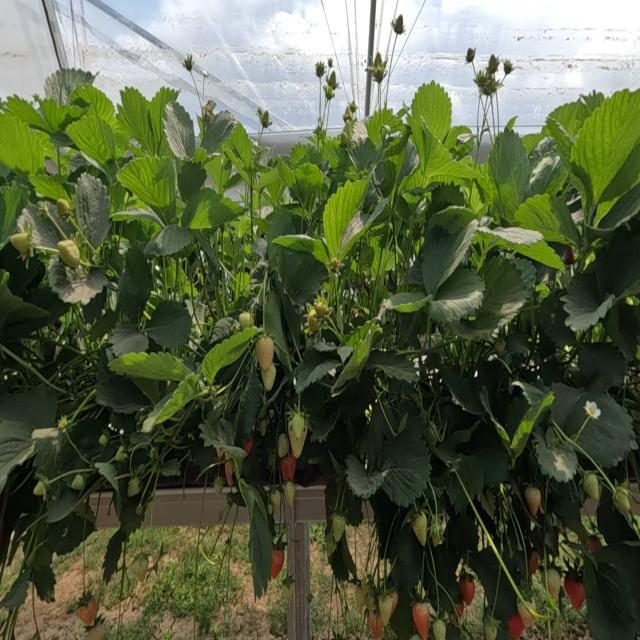Flowers: (585, 402, 598, 418), (58, 415, 68, 431)
Leaves: (572, 89, 639, 209), (551, 384, 635, 467), (595, 489, 640, 629), (460, 257, 529, 339), (377, 416, 431, 506), (408, 116, 475, 188), (582, 552, 636, 639), (498, 381, 554, 459), (422, 219, 478, 295), (108, 351, 191, 400), (118, 157, 175, 225), (323, 177, 370, 259), (73, 84, 128, 154), (272, 237, 328, 304), (241, 481, 273, 596), (547, 119, 590, 204), (458, 424, 510, 493), (471, 546, 517, 624), (488, 120, 530, 205), (142, 373, 200, 432), (515, 194, 579, 245), (335, 319, 382, 388), (561, 272, 615, 332), (95, 352, 148, 413), (202, 327, 260, 382), (428, 268, 483, 324), (1, 274, 49, 338), (362, 236, 402, 310), (67, 111, 115, 170), (117, 246, 151, 326), (48, 259, 107, 305), (596, 234, 639, 296), (74, 173, 110, 247), (0, 113, 43, 173), (411, 80, 451, 143), (0, 386, 56, 431), (340, 200, 387, 253), (423, 545, 459, 613), (120, 88, 155, 155), (1, 422, 34, 488), (276, 159, 323, 205), (146, 300, 191, 348), (577, 343, 626, 386), (149, 88, 179, 157), (440, 367, 483, 415), (190, 188, 241, 228), (223, 125, 258, 183), (18, 205, 63, 250), (538, 293, 575, 347), (49, 511, 94, 555), (236, 373, 263, 446), (391, 525, 421, 590), (598, 184, 640, 230), (295, 350, 342, 391), (164, 101, 195, 158), (113, 480, 144, 537), (347, 120, 382, 170), (45, 69, 93, 105), (610, 303, 640, 360), (1, 184, 27, 247), (368, 351, 419, 382), (537, 443, 577, 482), (346, 455, 383, 497), (526, 154, 561, 198), (547, 100, 589, 136), (365, 403, 391, 460), (264, 289, 287, 353), (144, 225, 193, 255), (202, 112, 236, 155), (109, 321, 147, 359), (7, 95, 47, 130), (377, 292, 428, 319), (295, 163, 323, 208), (33, 428, 61, 473), (390, 589, 414, 639), (0, 570, 30, 610), (449, 513, 477, 555), (178, 161, 206, 201), (199, 419, 236, 449), (473, 164, 497, 210), (47, 488, 79, 522), (204, 155, 231, 194), (103, 528, 122, 582), (95, 462, 118, 506), (492, 227, 543, 246), (113, 207, 164, 226), (89, 309, 119, 341), (461, 182, 487, 218), (445, 473, 469, 511), (33, 563, 55, 602), (301, 384, 325, 417), (366, 111, 387, 148), (289, 143, 319, 168), (210, 316, 237, 343), (310, 414, 336, 442), (193, 440, 216, 471), (506, 329, 529, 355), (406, 255, 424, 288), (323, 138, 342, 169), (445, 126, 467, 148), (258, 168, 281, 189), (231, 215, 250, 238), (160, 459, 181, 476), (510, 561, 519, 580), (35, 548, 41, 559), (41, 546, 46, 549)
Strawberries: (128, 552, 159, 588), (474, 69, 500, 100), (517, 599, 545, 627), (565, 572, 584, 611), (412, 602, 432, 638), (289, 413, 305, 458), (255, 336, 274, 371), (57, 239, 79, 267), (10, 232, 30, 260), (76, 597, 95, 626), (379, 592, 396, 624), (543, 569, 560, 600), (369, 54, 385, 83), (524, 487, 540, 515), (583, 473, 599, 500), (413, 514, 427, 544), (340, 115, 353, 147), (460, 577, 475, 604), (280, 454, 295, 481), (368, 612, 383, 639), (614, 489, 630, 514), (332, 514, 345, 543), (508, 614, 523, 639), (271, 550, 283, 579), (256, 107, 271, 128), (343, 101, 357, 123), (485, 616, 497, 639), (278, 433, 289, 458), (239, 312, 254, 330), (583, 498, 598, 516), (486, 54, 499, 74), (270, 489, 281, 512), (433, 620, 446, 639), (314, 299, 327, 318), (281, 580, 292, 602), (284, 482, 294, 506), (70, 474, 85, 490), (355, 582, 363, 611), (340, 124, 350, 147), (114, 445, 127, 462), (128, 476, 139, 496), (431, 529, 443, 546), (503, 59, 515, 76), (326, 71, 337, 89), (33, 481, 46, 496), (57, 200, 70, 215), (308, 315, 319, 332), (529, 554, 538, 574), (225, 461, 232, 485), (587, 537, 599, 551), (214, 477, 223, 495), (466, 47, 475, 63), (99, 433, 109, 447), (455, 603, 463, 618), (349, 100, 357, 114), (137, 502, 143, 515)
